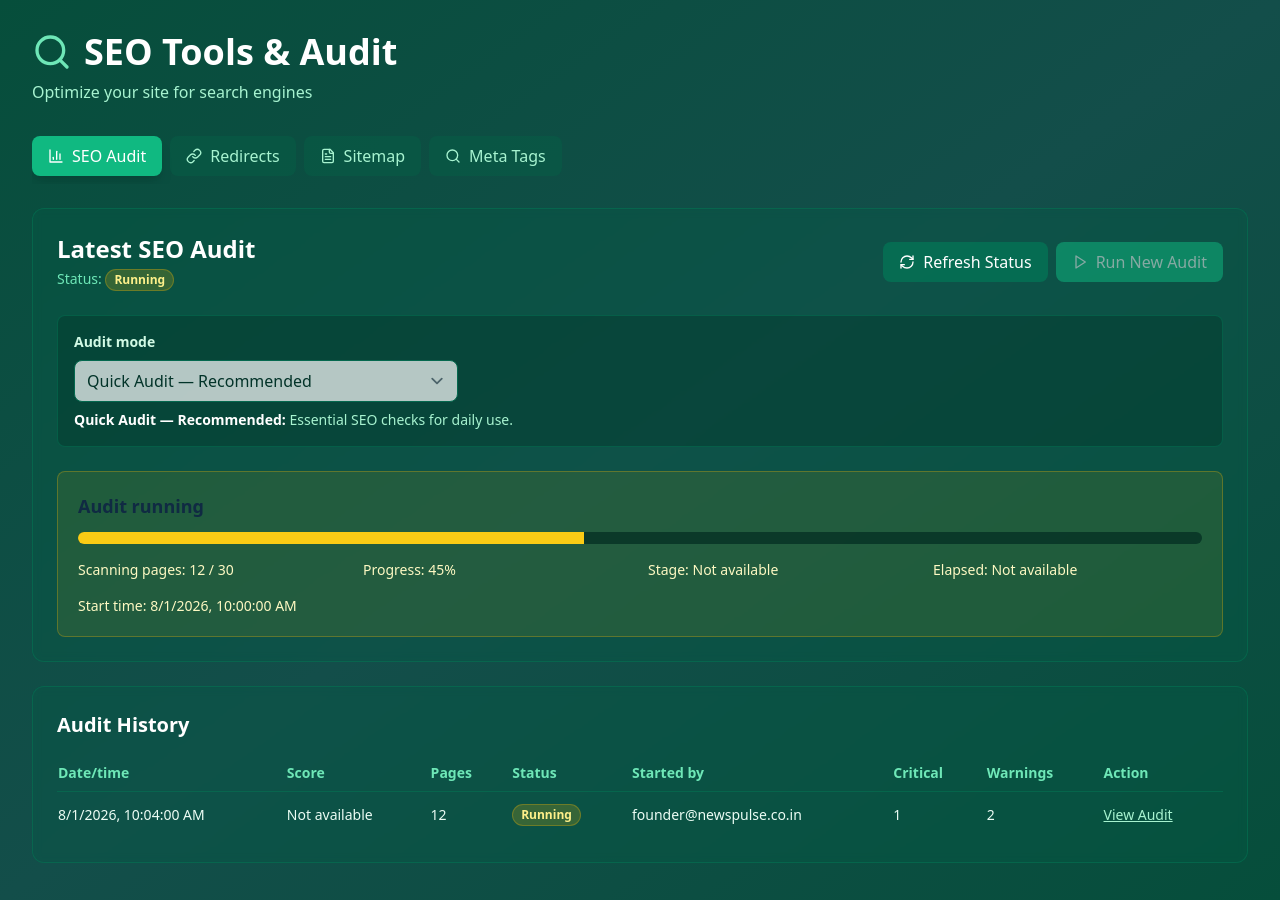
Test: SEOToolsDashboard SEO audit › renders running and failed audit states
Expected: the heading "Audit running" is shown, [78, 494, 204, 518]
Expected: the text "Progress: 45%" is shown, [363, 560, 456, 579]
Click the button "Refresh Status": x=966, y=262 [883, 242, 1048, 282]
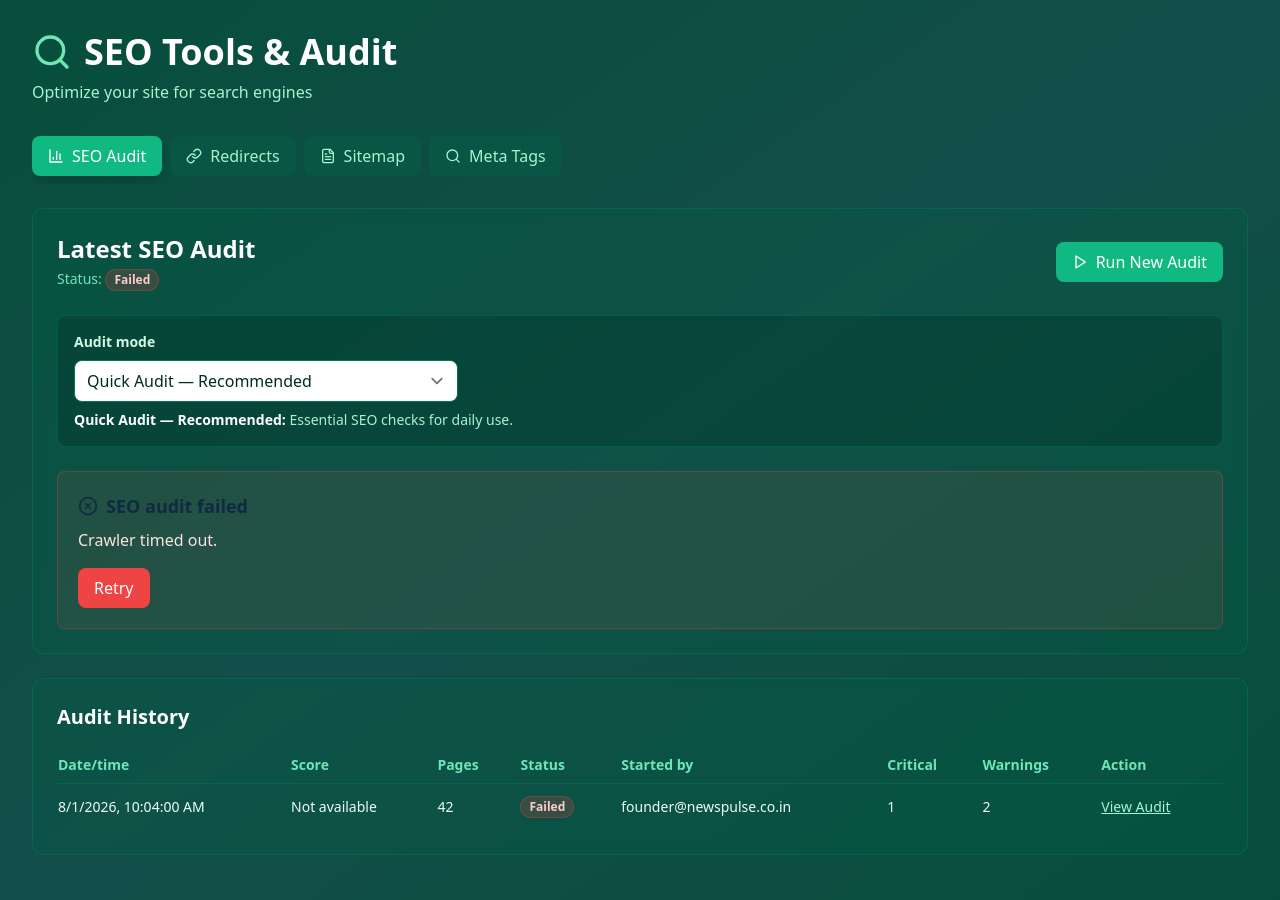
Now the heading "SEO audit failed" is shown, box [78, 494, 248, 518]
Now the text "Crawler timed out." is shown, box [78, 529, 217, 551]
